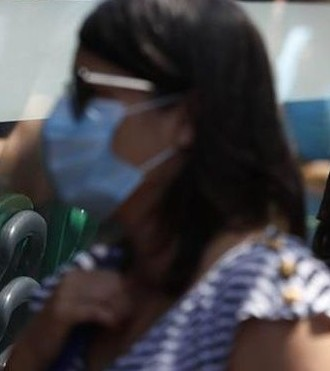with_mask: (35, 5, 288, 245)
